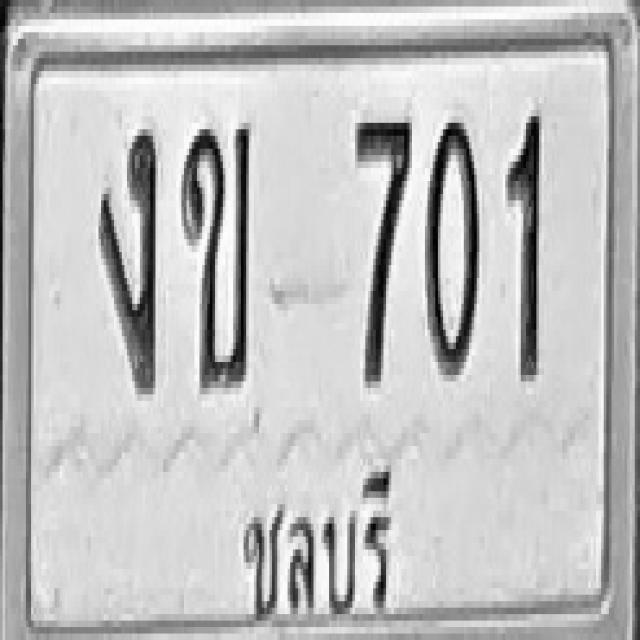0: (425, 110, 479, 375)
1: (505, 107, 542, 378)
11KhorKhai: (180, 116, 250, 388)
16NgorNgu: (100, 120, 157, 391)
7: (354, 110, 411, 381)
Chonburi: (232, 448, 400, 631)
